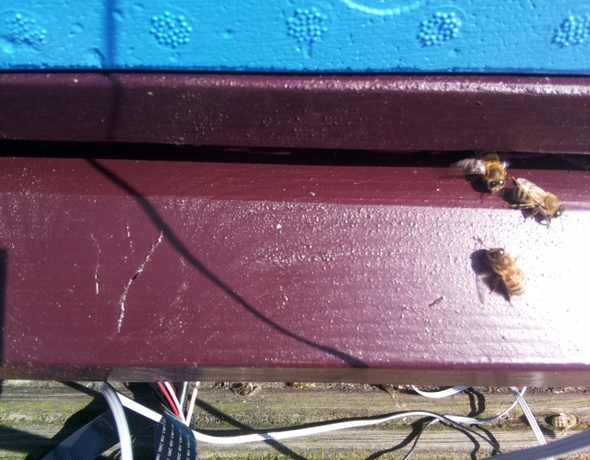no_pollen: (508, 176, 568, 226), (483, 243, 531, 302), (474, 147, 512, 195)
